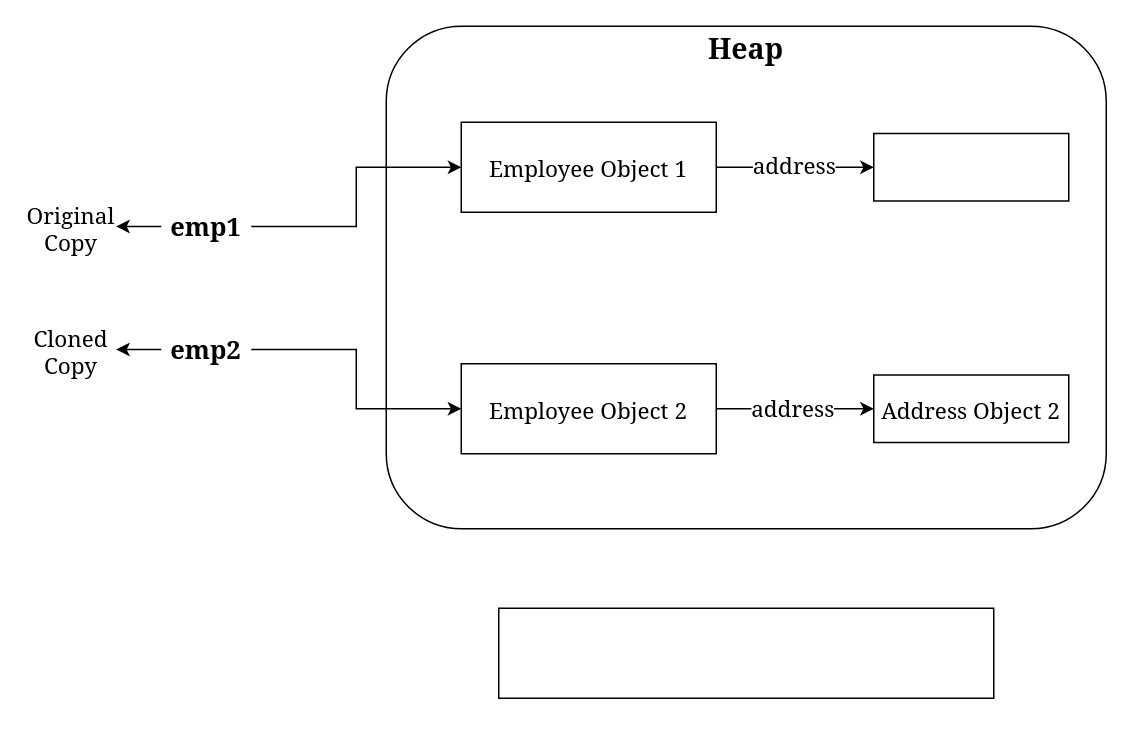
Image size: 1133x743. Some labels were removed from this diagram. The shapes that lost their labels are listed below. From the top down, each one's centre as x and y in pixels, then its label:
point 970,166: Address Object 1
point 745,652: Employee Object 1 ≠ Employee Object 2 Address Object 1 ≠ Address Object 2
